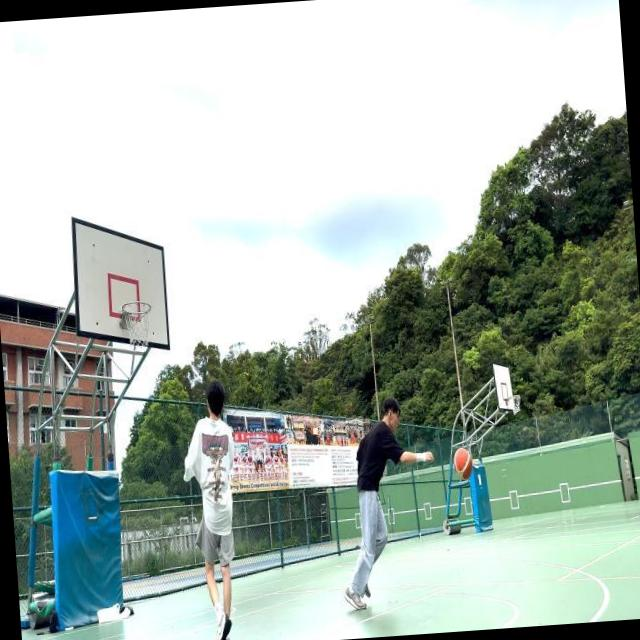ball: (452, 444, 472, 478)
hoop: (114, 298, 156, 318), (504, 392, 526, 402)
